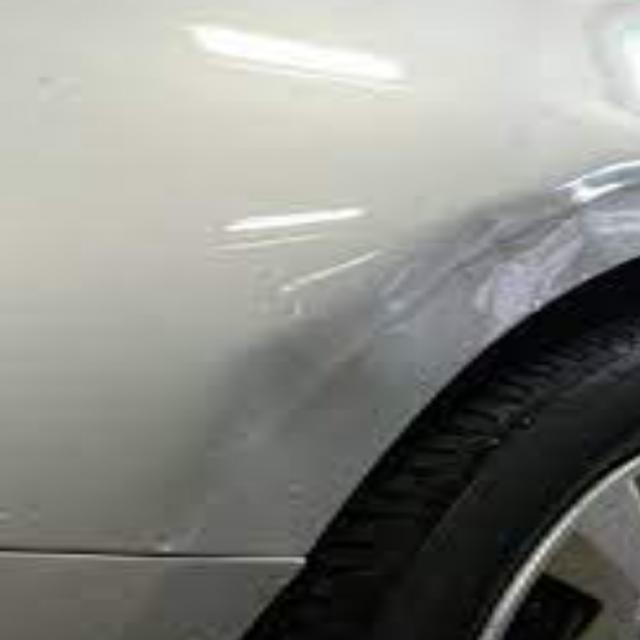dents: (222, 324, 404, 492), (401, 185, 580, 337)
